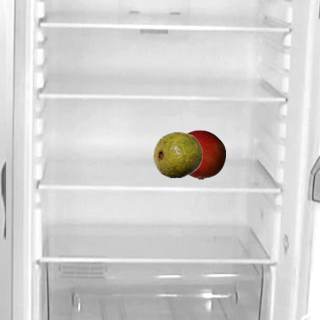Apple Braeburn: (175, 129, 225, 179)
Guava: (152, 129, 202, 179)
